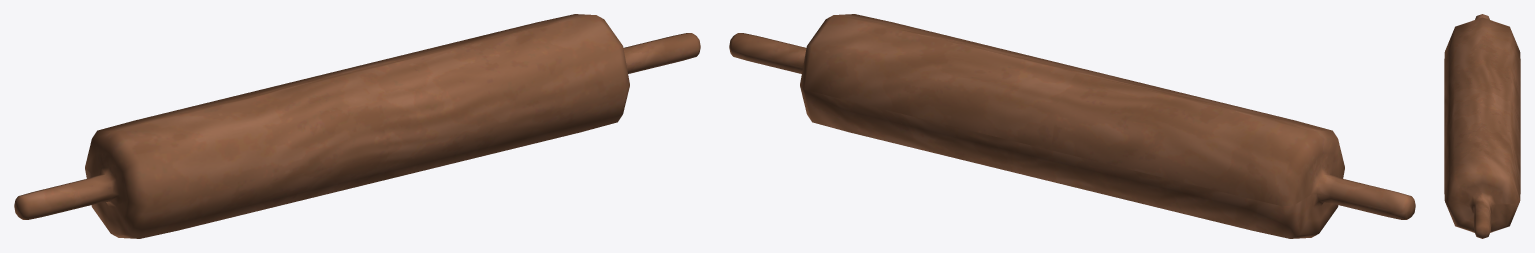
File: RoloMassa.fbx
3 renders of one model, left to right at view 1: azimuth 30°, elevation 25°; view 2: azimuth 150°, elevation 25°; view 3: azimuth 270°, elevation 25°, orthographic. The views are drawn at different scales.
Parts seen in each view (by area): view 1: RoloMassa; view 2: RoloMassa; view 3: RoloMassa.
Part boxes in pixels (box(x1,y1,x2,y2)): RoloMassa: box(14, 14, 700, 238); RoloMassa: box(729, 14, 1415, 238); RoloMassa: box(1444, 14, 1520, 238).
Bounding box in the file's own units: 33 × 5.01 × 5.01.
Materials: 1 (1 with a texture image).
